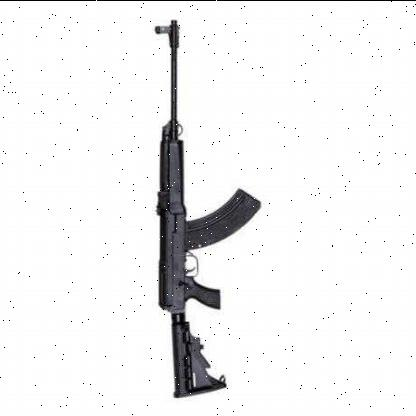rifle: (133, 18, 251, 403)
